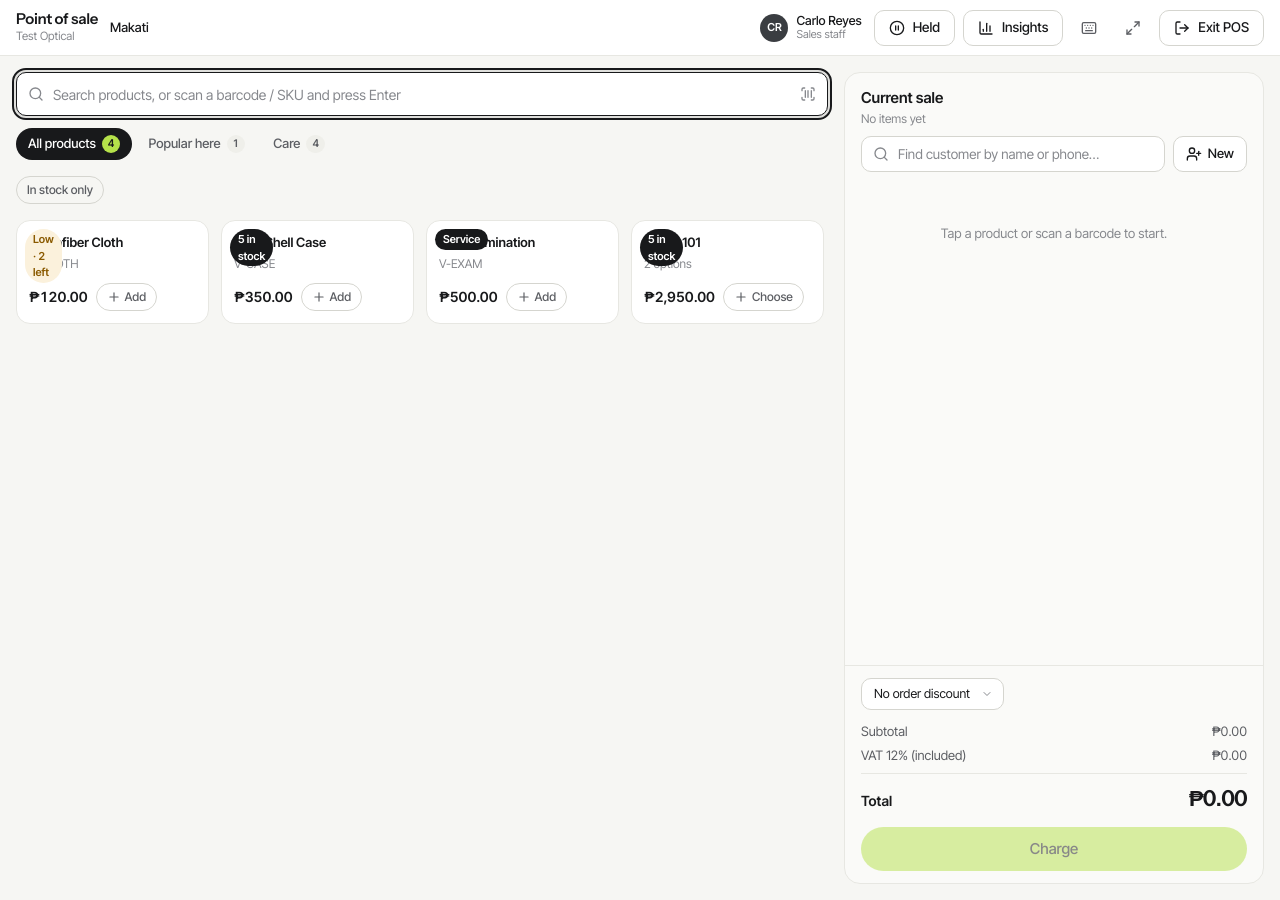
Test case: POS terminal › applies a line discount and sends it to the server
Click the button "Hard Shell Case V-CASE ₱350.00 Add" at (318, 272), box top-left (221, 220), bottom-right (414, 324)
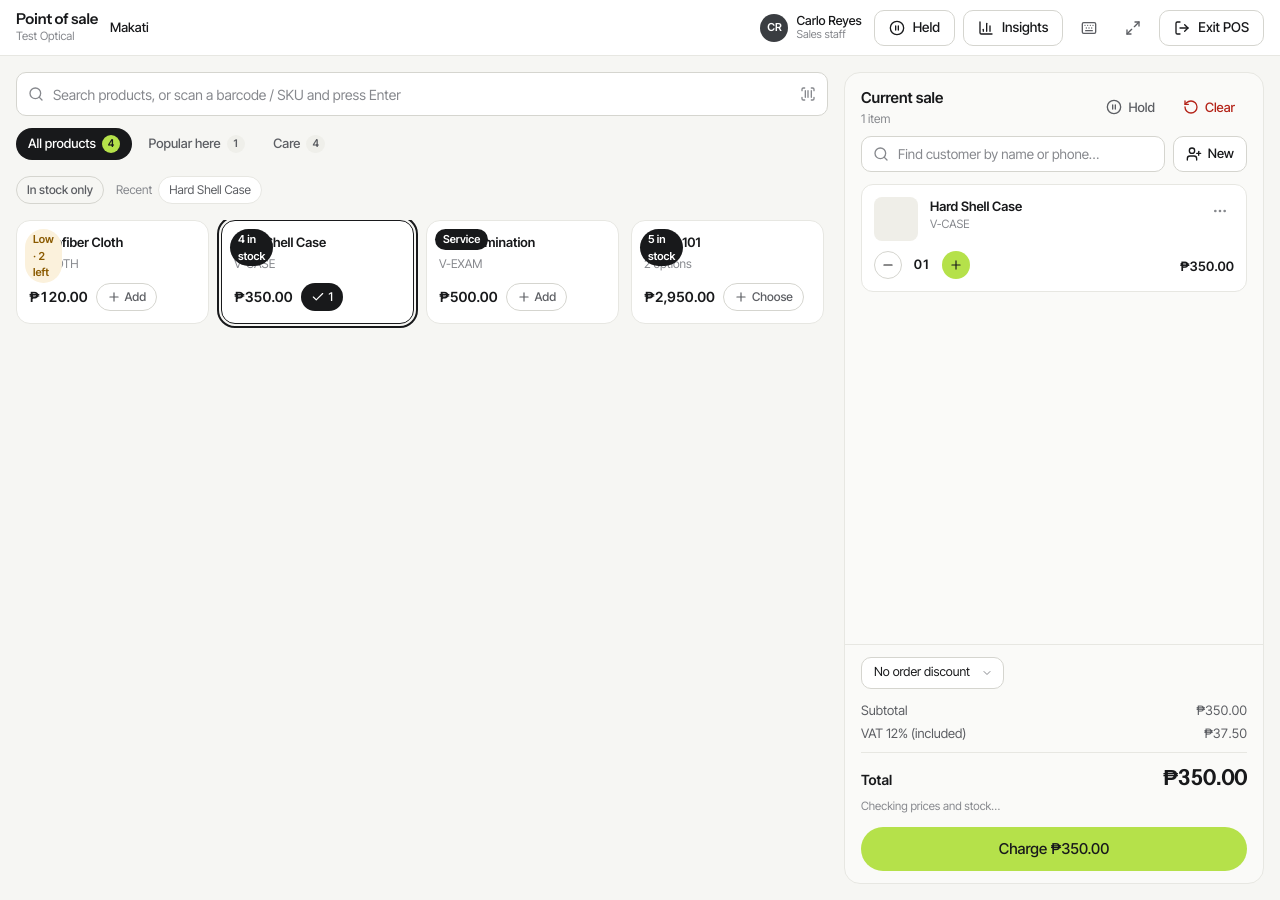
Click the button named "More for Hard Shell Case" at (1220, 210), box top-left (1206, 196), bottom-right (1234, 224)
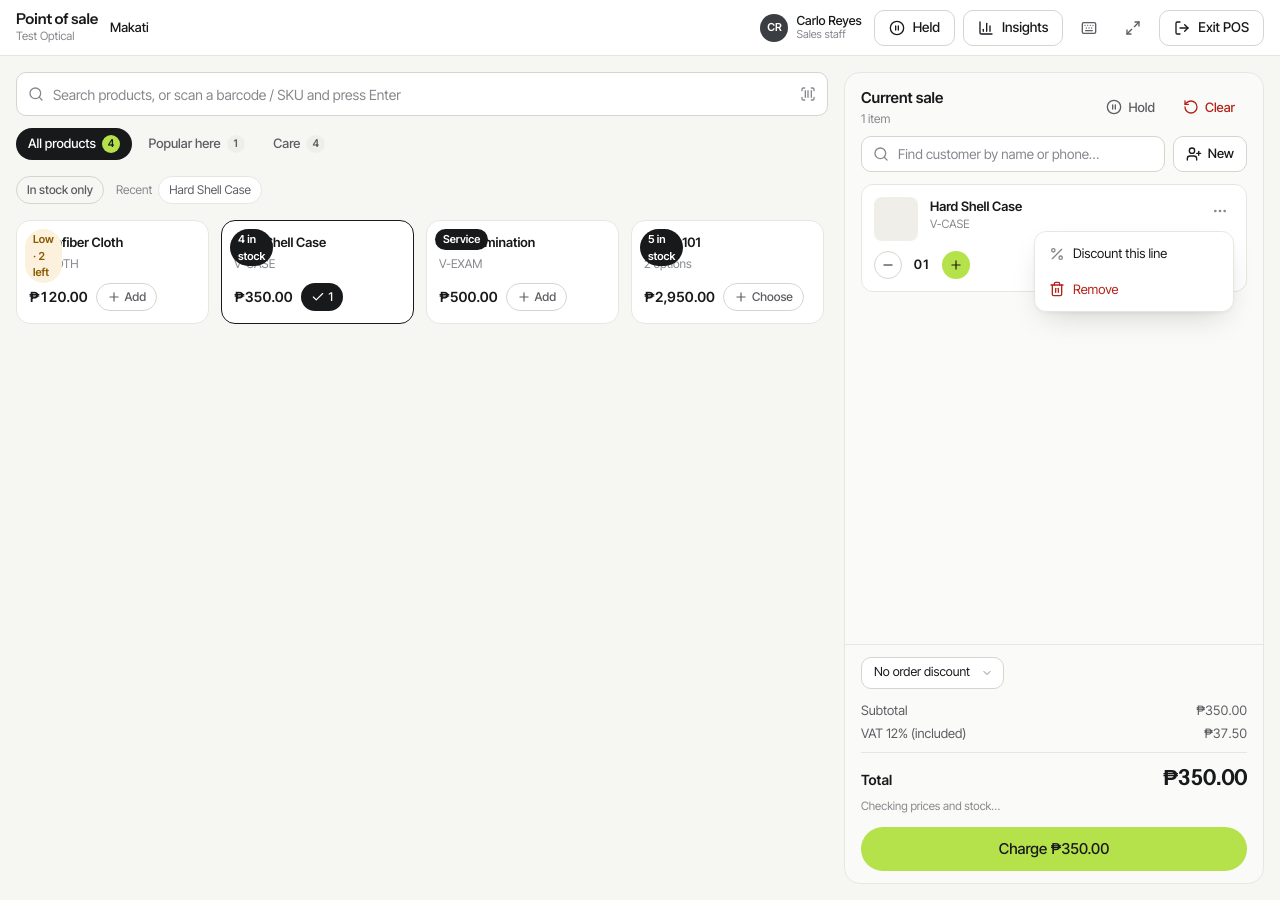
Click the menu item "Discount this line" at (1108, 253), box top-left (1049, 245), bottom-right (1167, 262)
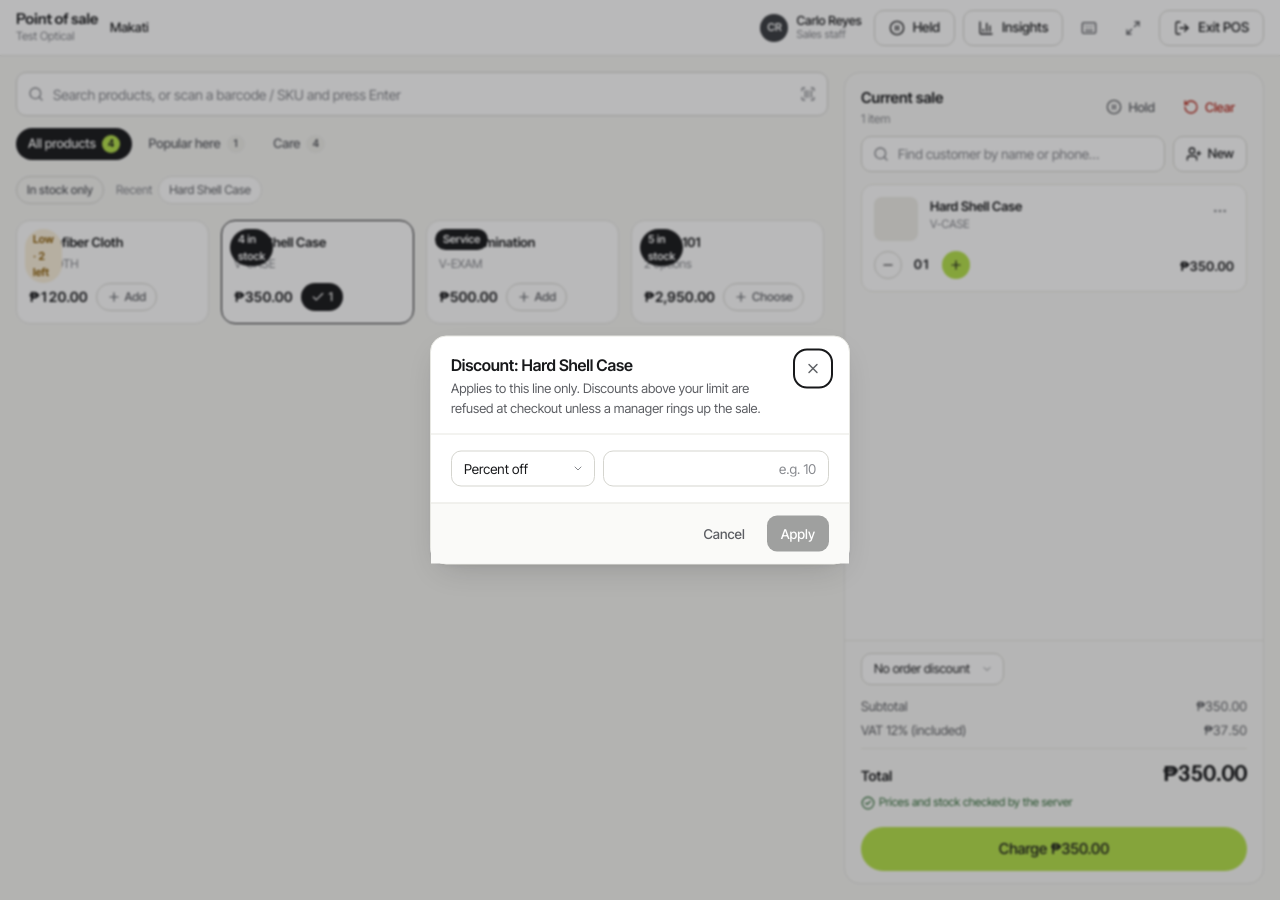
Type "10" into the field named "Discount value" at (716, 468), box top-left (603, 450), bottom-right (829, 486)
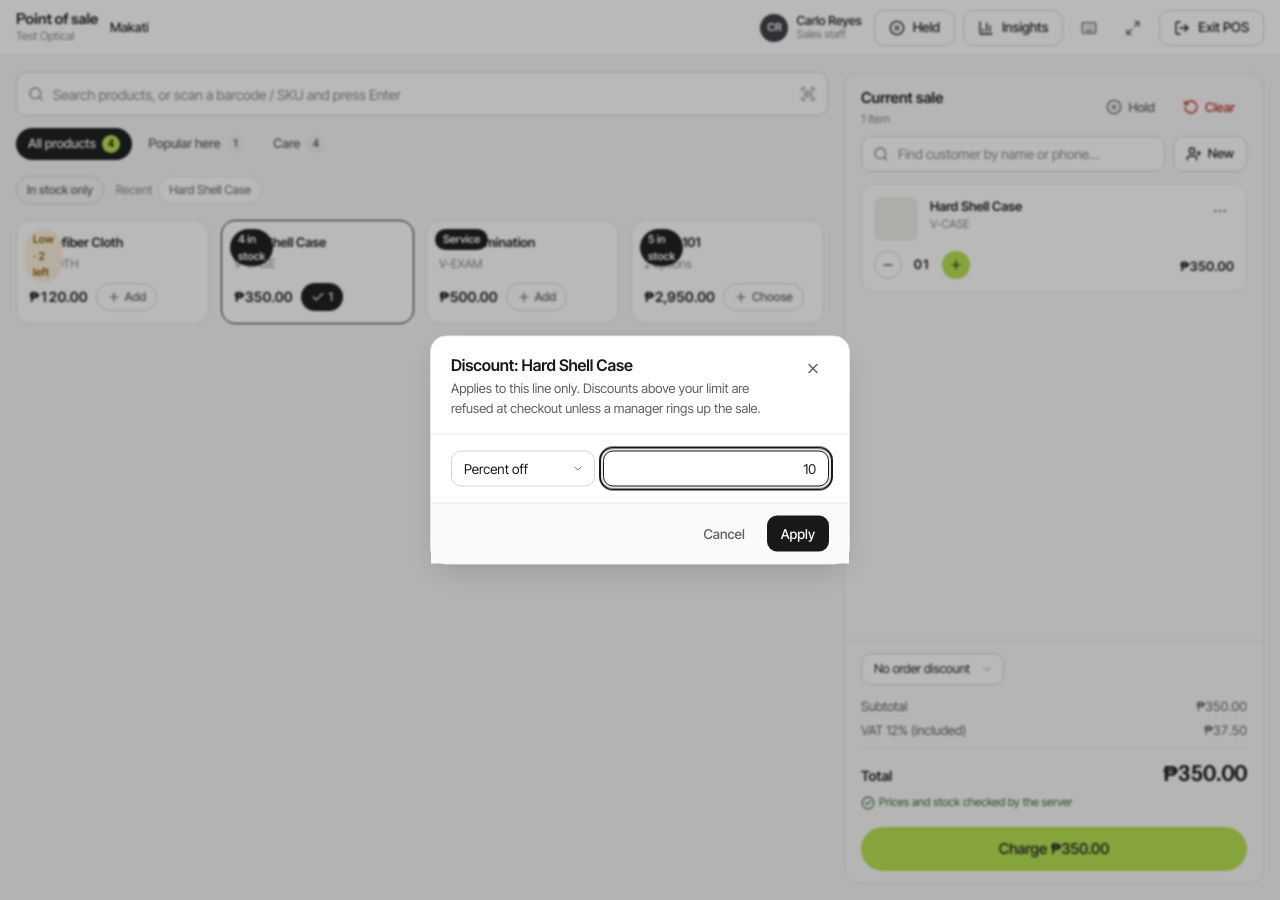
Click the button "Apply" at (798, 534), box top-left (767, 516), bottom-right (829, 552)
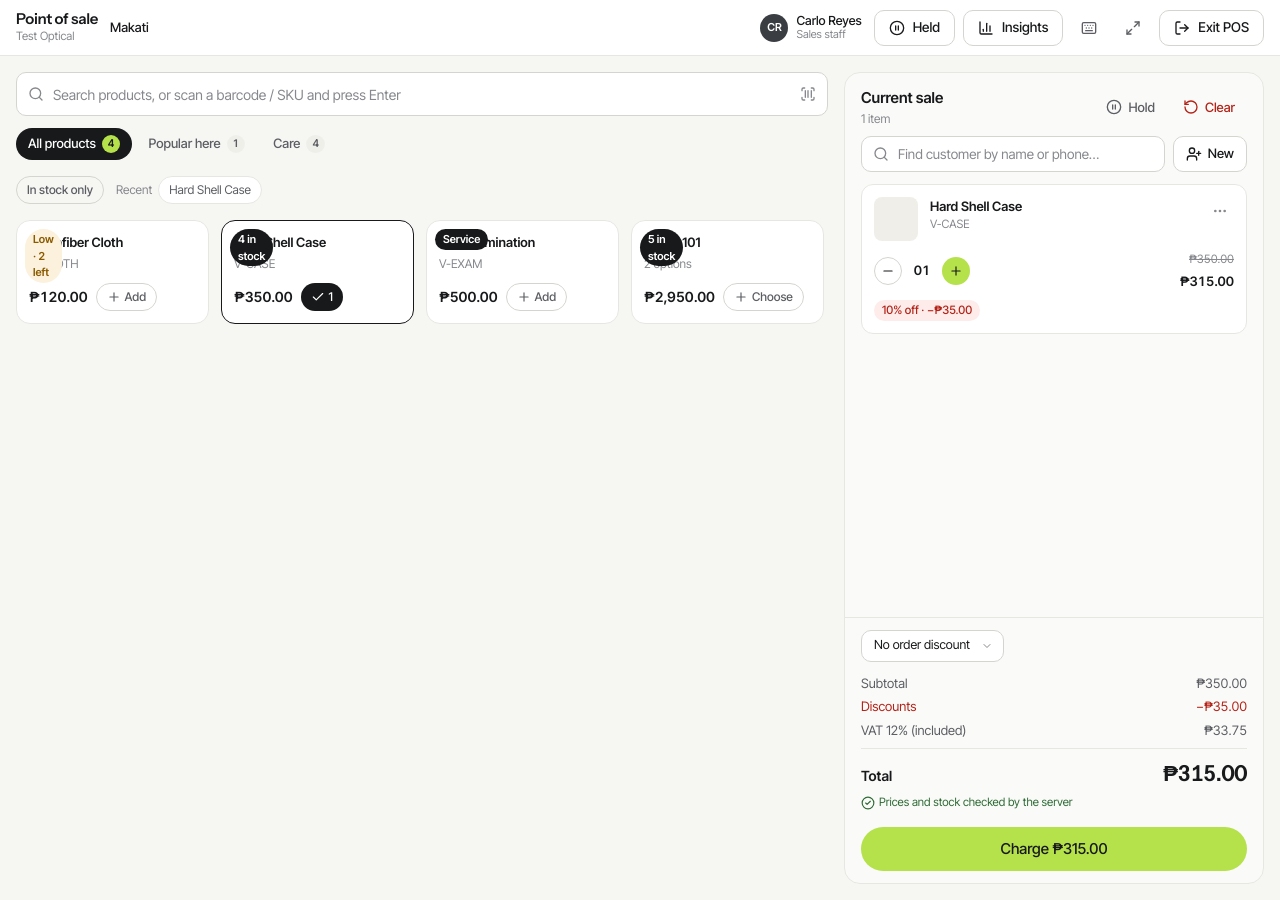
Expected: the button "Charge ₱315.00" is shown, top-left (861, 827), bottom-right (1247, 871)
